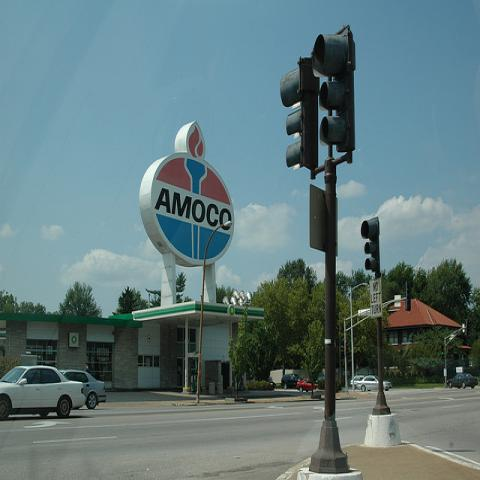car: (0, 363, 88, 421), (59, 369, 107, 410), (447, 372, 478, 390), (356, 376, 388, 392), (280, 373, 302, 390), (296, 378, 319, 393), (350, 375, 365, 389)
